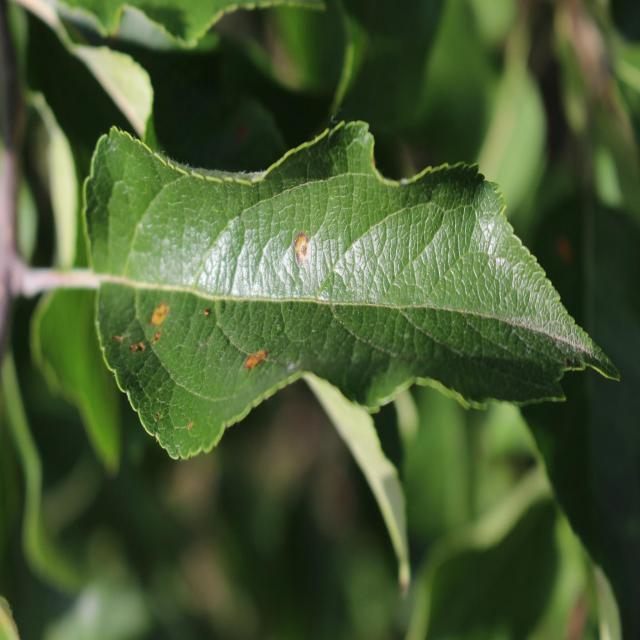Rust: (286, 227, 314, 276), (150, 288, 178, 332), (241, 344, 270, 383)
